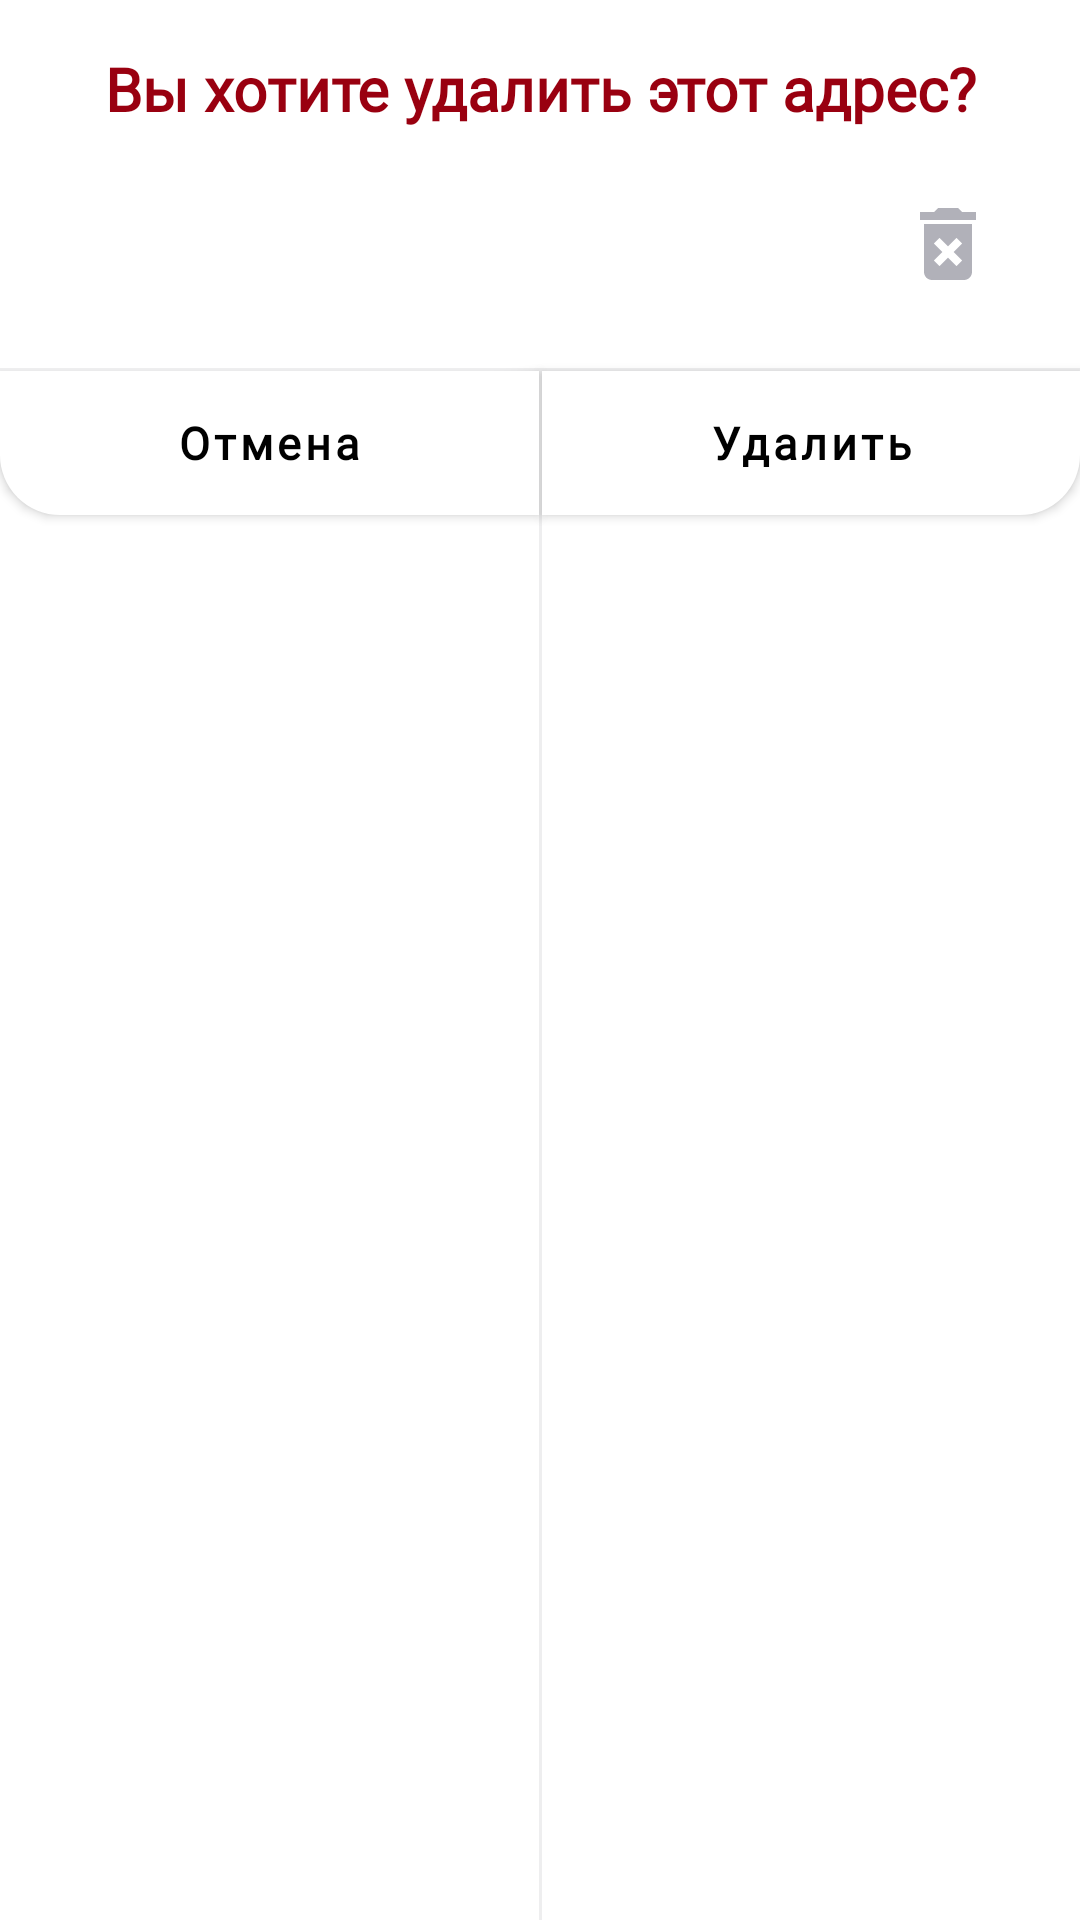

Point at icon controls on the screen. Image size 1080 x 1920, points as (x=x, y=y).
delete: (x=948, y=244)
